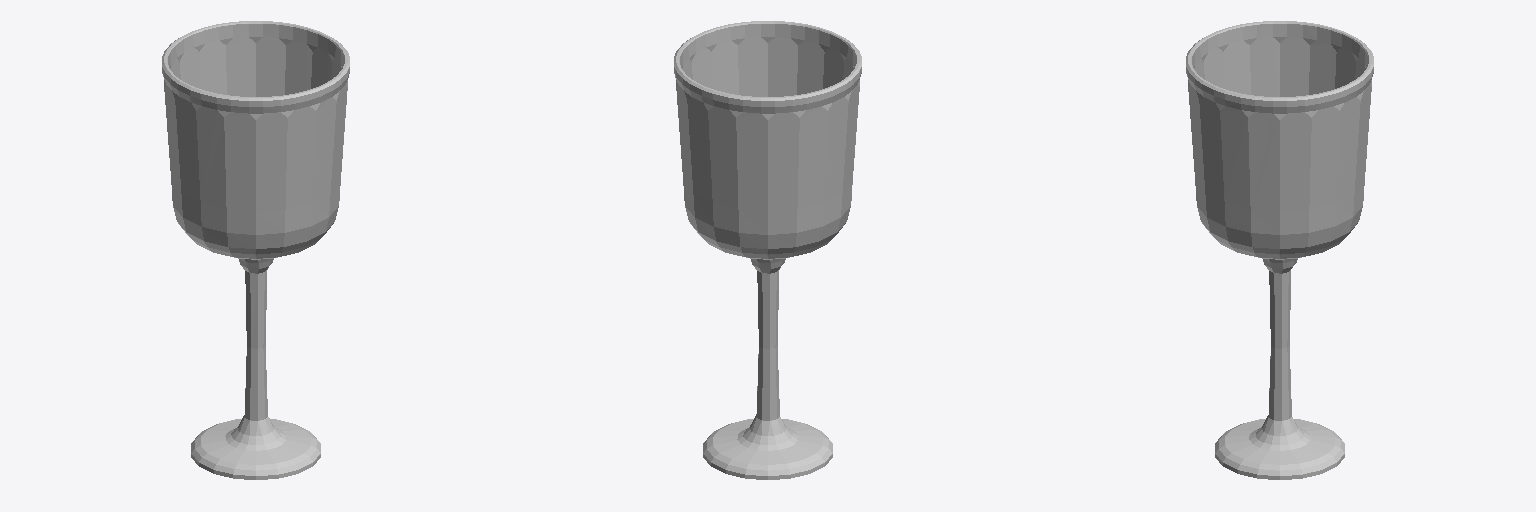
The model's file is goblet.obj.
3 renders of one model, left to right at view 1: azimuth 30°, elevation 25°; view 2: azimuth 150°, elevation 25°; view 3: azimuth 270°, elevation 25°, orthographic.
Parts seen in each view (by area): view 1: Goblet_ncl1_1; view 2: Goblet_ncl1_1; view 3: Goblet_ncl1_1.
Part boxes in pixels (x1,y1,x2,y2): Goblet_ncl1_1: (162, 21, 349, 479); Goblet_ncl1_1: (674, 21, 861, 479); Goblet_ncl1_1: (1186, 21, 1373, 479).
Bounding box in the file's own units: 0.1534 × 0.3524 × 0.153.